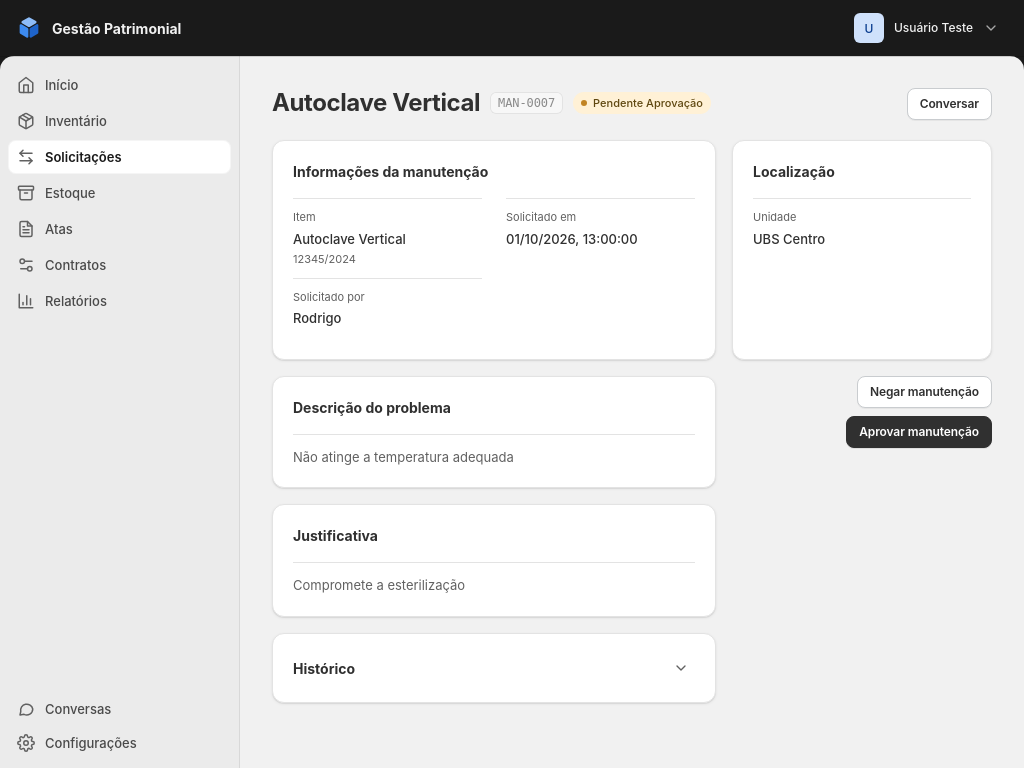
Test: Manutenções › sem nenhum item elegível a aprovação não pode ser confirmada
Click the button "Aprovar manutenção".
click(919, 432)  # box [846,416,992,448]
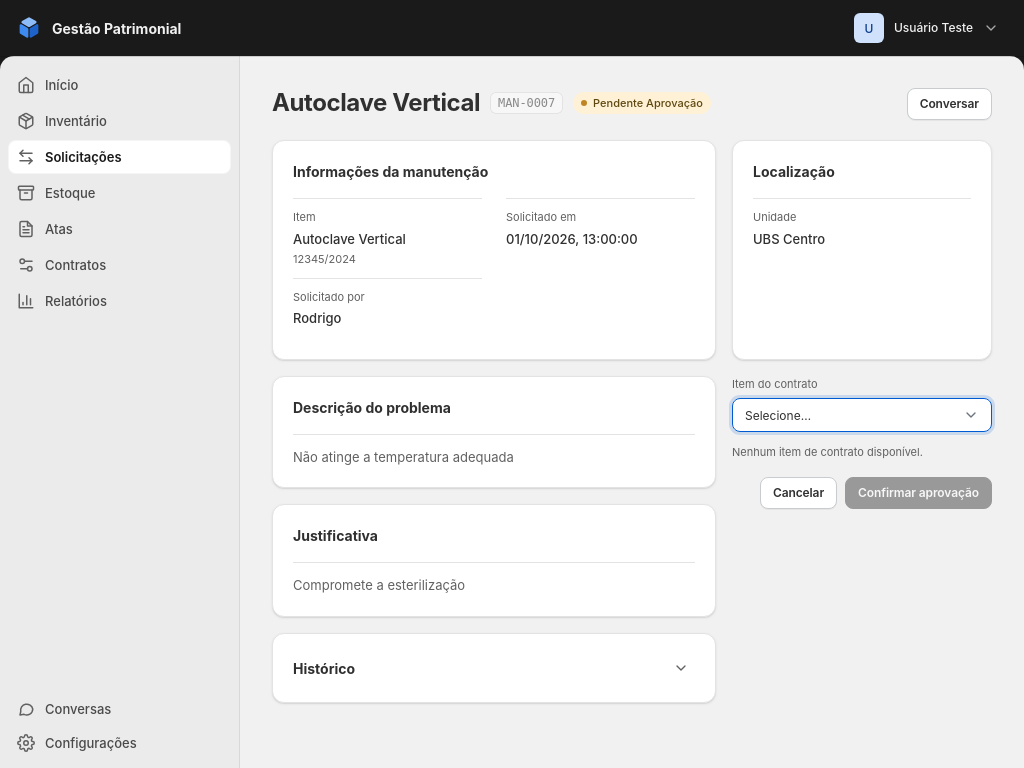
Result: the text "Nenhum item de contrato disponível." is shown at [732,445,923,459]
Result: the button "Confirmar aprovação" is disabled at [845,476,992,508]
